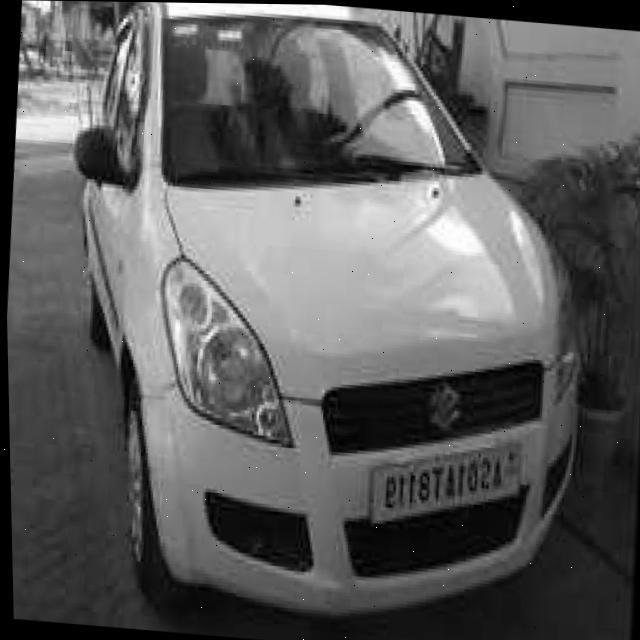car: (42, 0, 616, 637), (366, 423, 526, 531)
